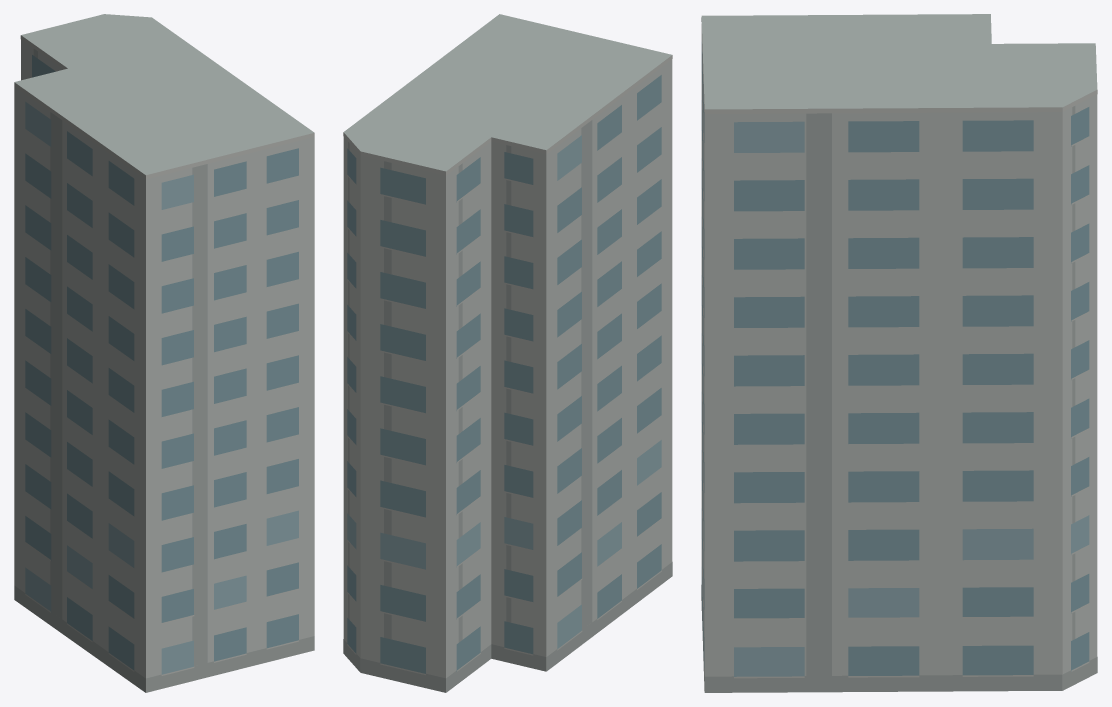
The model's file is residential-832f9302-c1e9-41ee-a73d-c4490d6adc68.glb.
3 views of the same model, side by side, from view 1: azimuth 30°, elevation 25°; view 2: azimuth 150°, elevation 25°; view 3: azimuth 270°, elevation 25° (orthographic). The views are drawn at different scales.
Visible parts, largest first — view 1: residential-832f9302-c1e9-41ee-a73d-c4490d6adc68.tmp; view 2: residential-832f9302-c1e9-41ee-a73d-c4490d6adc68.tmp; view 3: residential-832f9302-c1e9-41ee-a73d-c4490d6adc68.tmp.
Boxes of the visible parts, x1,y1,x2,y2 form: residential-832f9302-c1e9-41ee-a73d-c4490d6adc68.tmp: (14, 14, 314, 692); residential-832f9302-c1e9-41ee-a73d-c4490d6adc68.tmp: (343, 14, 672, 692); residential-832f9302-c1e9-41ee-a73d-c4490d6adc68.tmp: (701, 14, 1097, 692).
Size of the model in its own units: 10.53 by 30 by 18.46.
